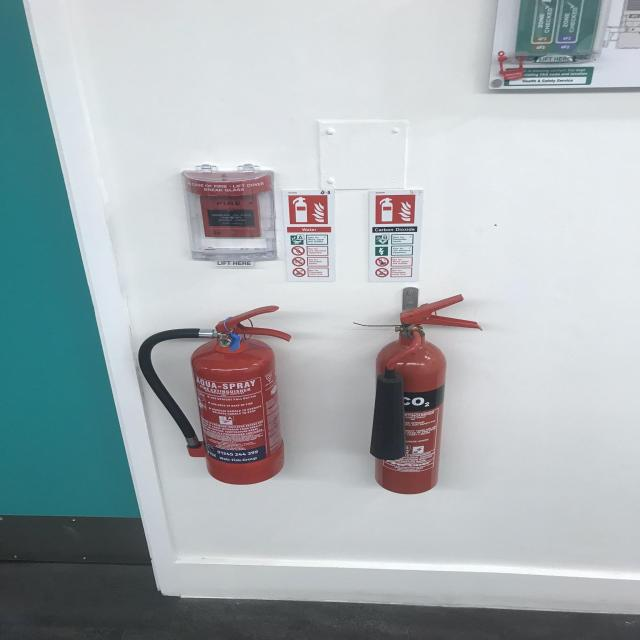fire_extinguisher: (134, 302, 299, 488), (364, 287, 484, 498)
